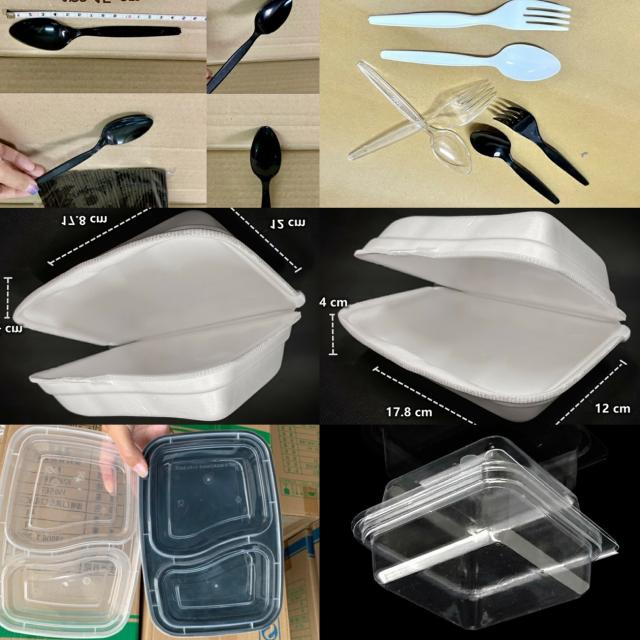plastik: (13, 211, 304, 420), (339, 211, 630, 420), (352, 438, 617, 629), (139, 429, 283, 636), (0, 425, 139, 638), (340, 78, 501, 171), (357, 61, 472, 175), (35, 115, 153, 185), (207, 0, 292, 94), (494, 107, 589, 185), (381, 44, 561, 81), (470, 130, 559, 204), (368, 0, 571, 30), (10, 18, 181, 51), (250, 127, 282, 208)
